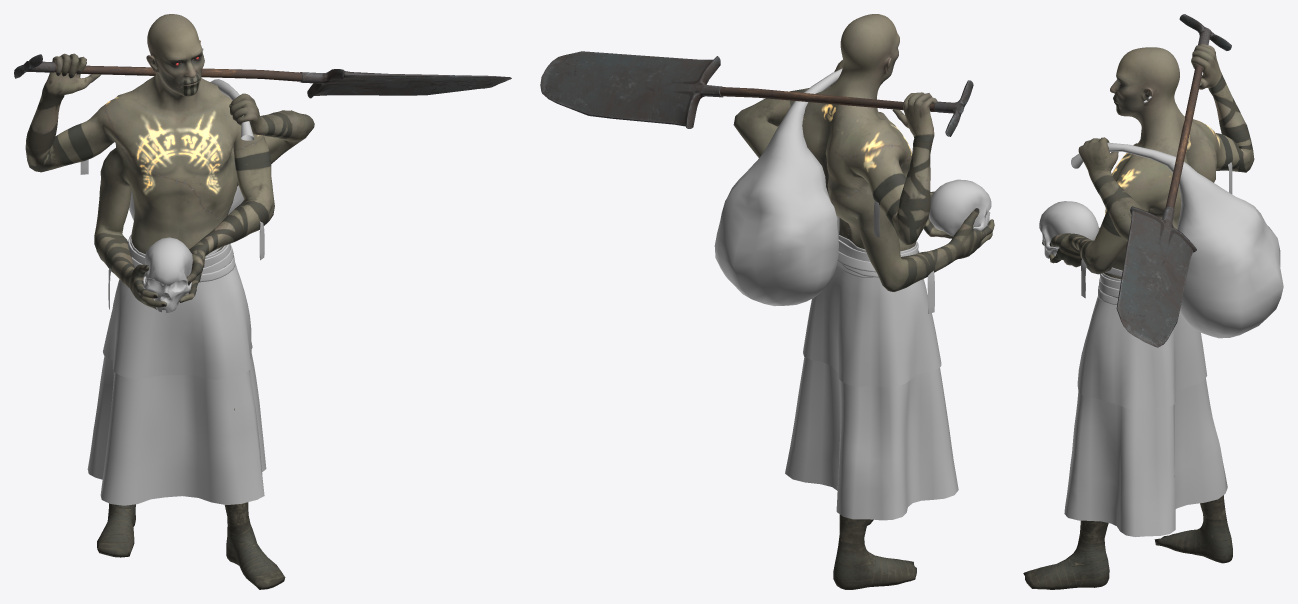
Rendered from Collector.gltf.
3 views of the same model, side by side, from view 1: azimuth 30°, elevation 25°; view 2: azimuth 150°, elevation 25°; view 3: azimuth 270°, elevation 25° (orthographic). The views are drawn at different scales.
Parts seen in each view (by area): view 1: SM_body, SM_dressUnder, SM_dressOver, SM_shovel, SM_skull, SM_belt, SM_skullBag; view 2: SM_body, SM_dressUnder, SM_skullBag, SM_shovel, SM_dressOver, SM_skull, SM_belt; view 3: SM_body, SM_dressUnder, SM_skullBag, SM_shovel, SM_dressOver, SM_skull, SM_belt.
Boxes of the visible parts, x1,y1,x2,y2 form: SM_body: (25, 14, 314, 589); SM_dressUnder: (87, 234, 266, 505); SM_dressOver: (103, 263, 252, 379); SM_shovel: (14, 54, 511, 98); SM_skull: (143, 237, 192, 312); SM_belt: (130, 235, 235, 282); SM_skullBag: (129, 79, 254, 220); SM_body: (733, 14, 994, 589); SM_dressUnder: (785, 239, 958, 520); SM_skullBag: (714, 68, 842, 306); SM_shovel: (540, 51, 973, 136); SM_dressOver: (803, 266, 941, 387); SM_skull: (929, 179, 991, 236); SM_belt: (836, 235, 919, 277); SM_body: (1023, 43, 1254, 589); SM_dressUnder: (1064, 273, 1227, 536); SM_skullBag: (1071, 142, 1283, 338); SM_shovel: (1116, 14, 1231, 347); SM_dressOver: (1077, 296, 1207, 409); SM_skull: (1039, 201, 1099, 258); SM_belt: (1098, 267, 1122, 304).
Size of the model in its own units: 5.6 by 6.37 by 2.89.
